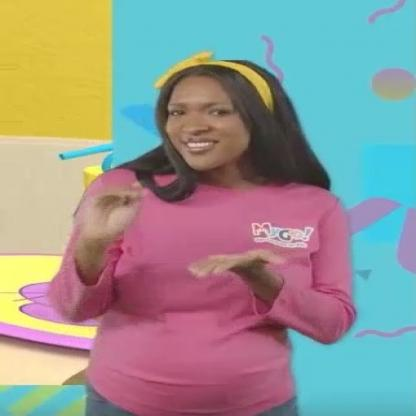ExcuseMe: (71, 171, 284, 288)
